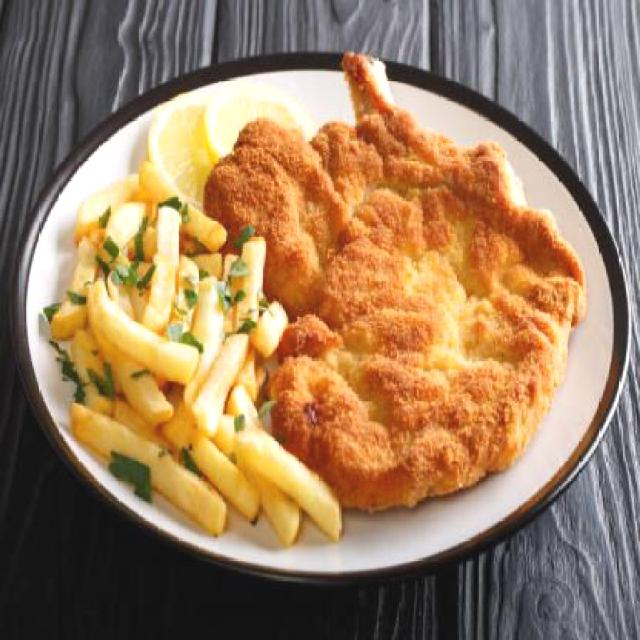fries: (49, 148, 348, 543)
